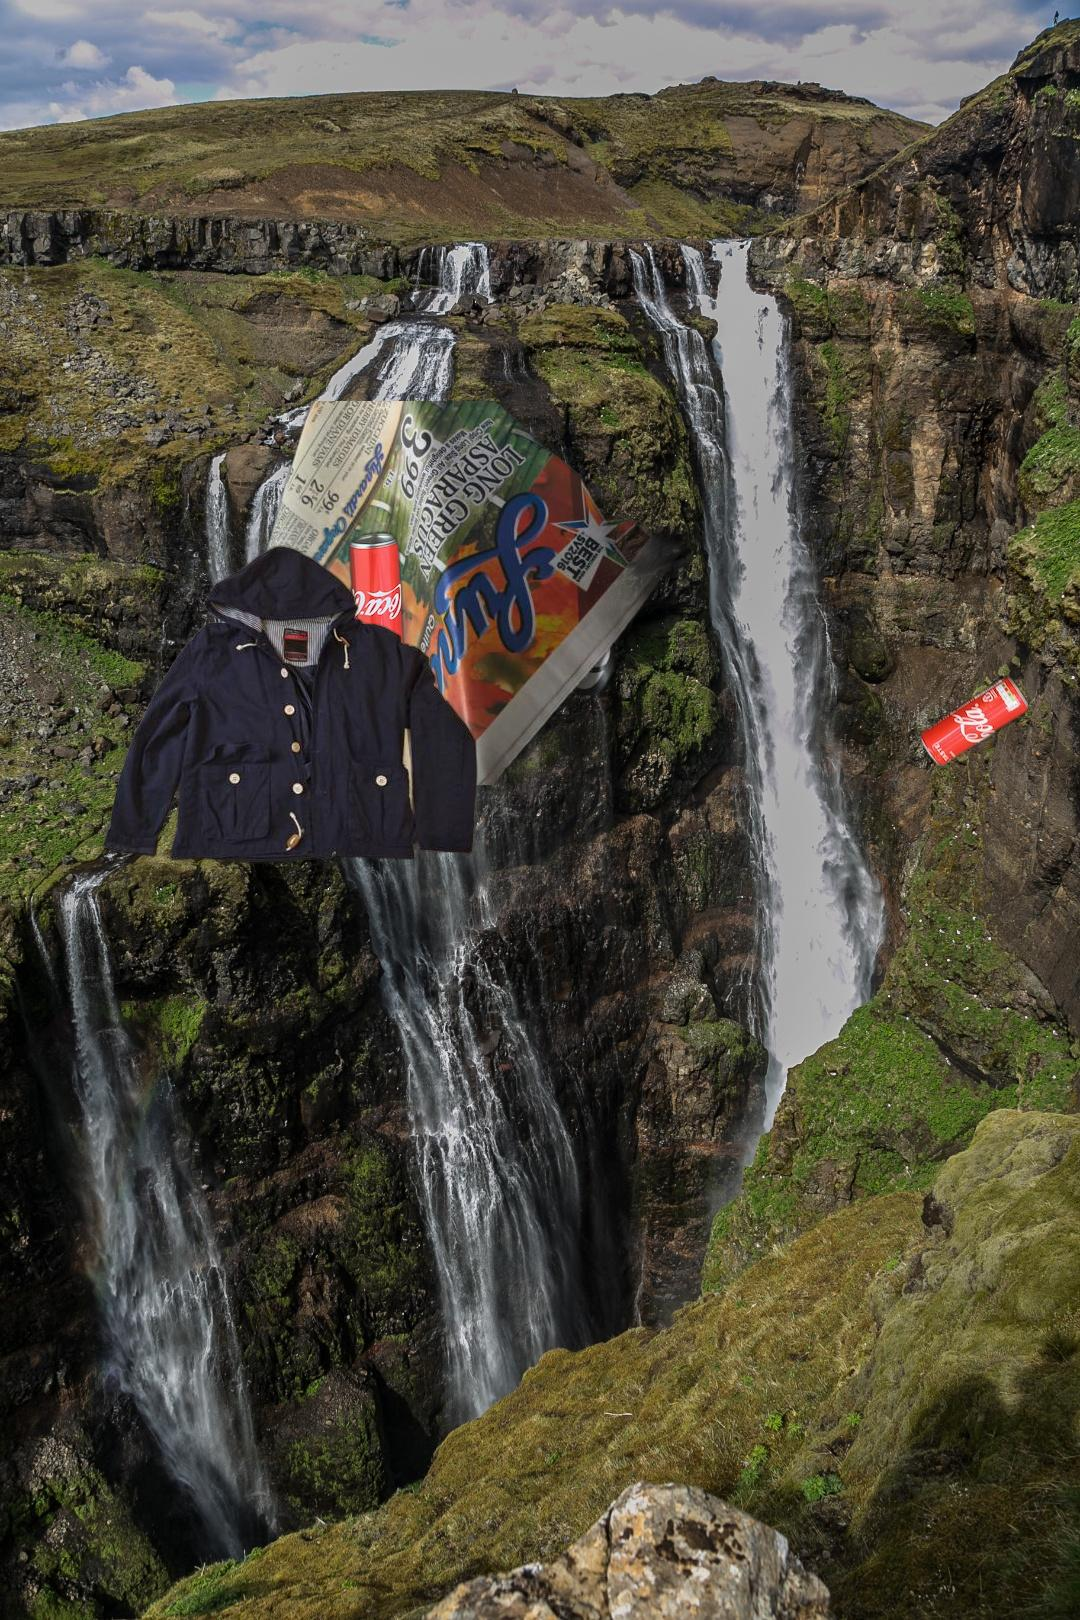clothes: (100, 543, 481, 872)
metal-cans: (915, 670, 1034, 774), (344, 526, 408, 671)
paper: (214, 401, 726, 785)
